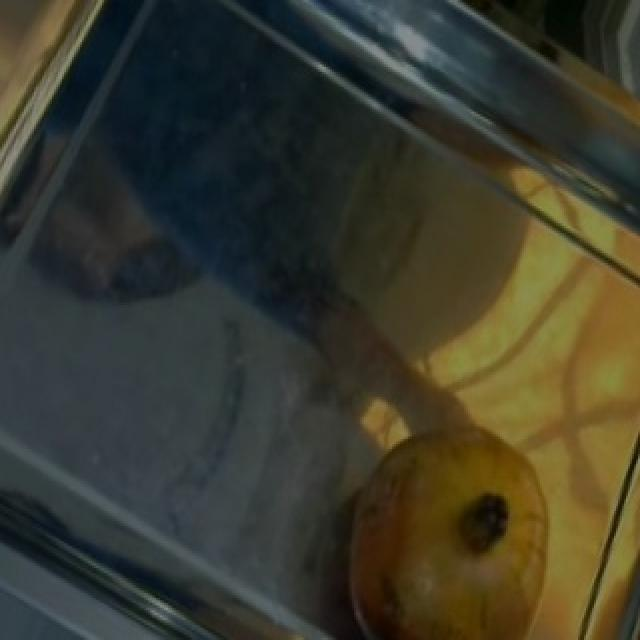fruit: (314, 389, 590, 640)
